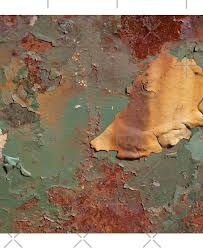rust: (13, 153, 165, 233), (113, 15, 186, 59), (16, 30, 57, 88), (174, 189, 203, 231)
